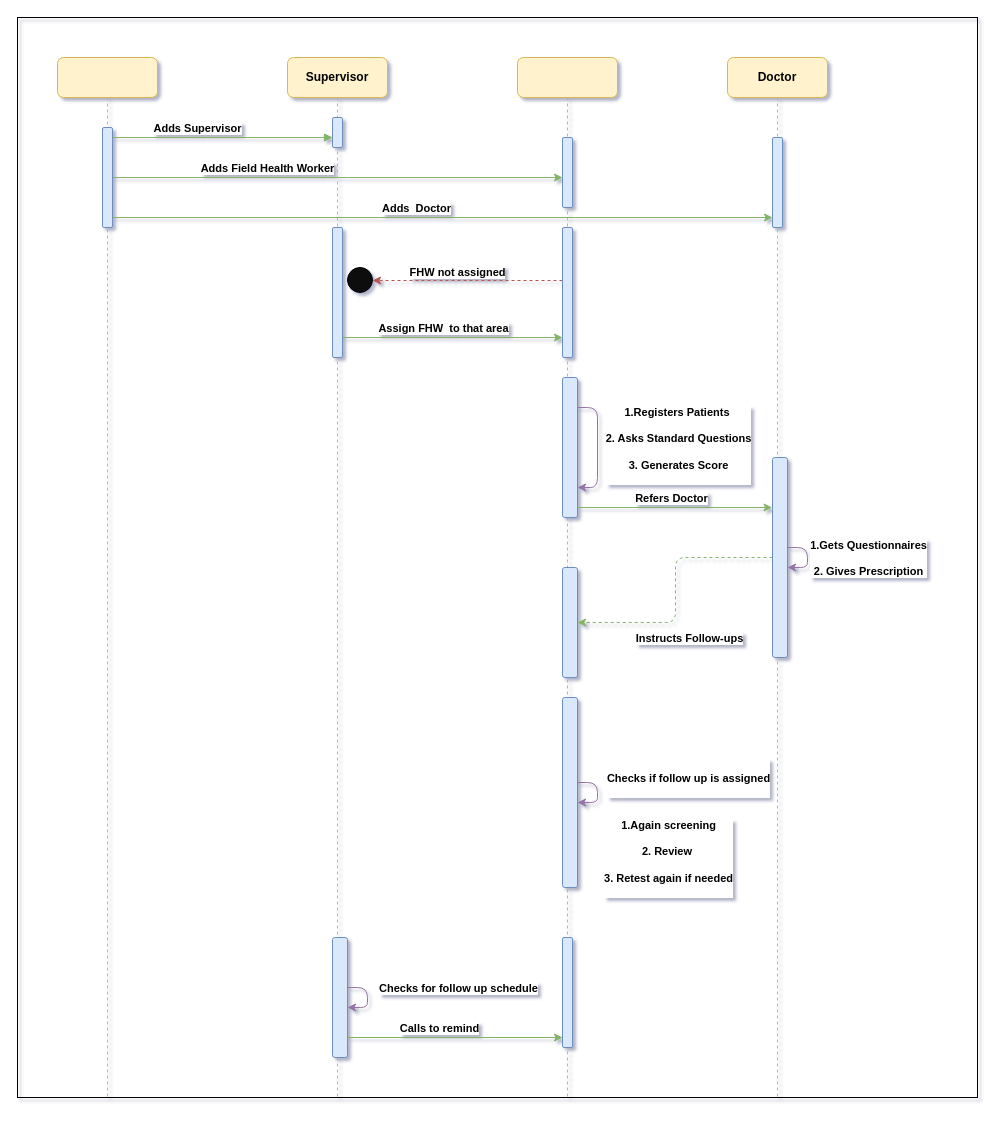
Image size: 1001x1121. Some labels were removed from this diagram. Here are the shapes that lost their labels. From the top down, the box of each, then its label:
(56, 56, 158, 1098): Admin
(516, 56, 618, 1098): Field Health Worker
